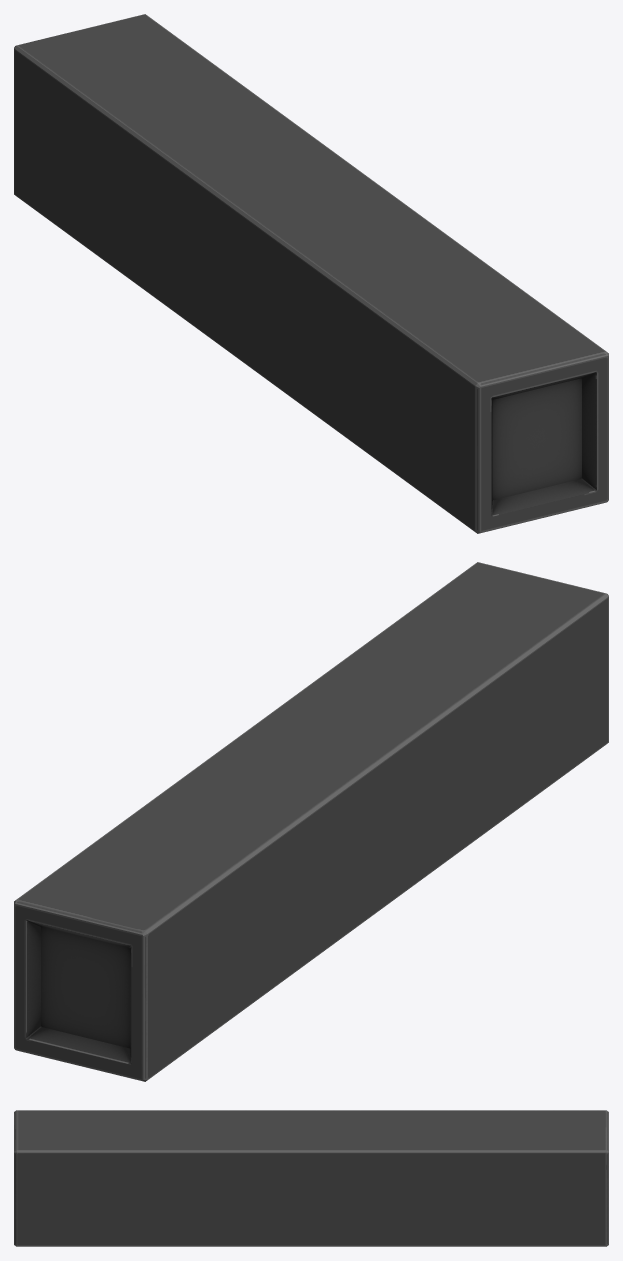
Rendered from battery.glb.
3 renders of one model, top to bottom at view 1: azimuth 30°, elevation 25°; view 2: azimuth 150°, elevation 25°; view 3: azimuth 270°, elevation 25°, orthographic. The views are drawn at different scales.
Visible parts, largest first — view 1: Cube.002; view 2: Cube.002; view 3: Cube.002.
Part boxes in pixels (x1,y1,x2,y2): Cube.002: (14,14,608,533); Cube.002: (14,562,608,1081); Cube.002: (14,1110,608,1246).
Size of the model in its own units: 7.54 by 8.13 by 45.49.
Materials: 1 (1 with a texture image).
